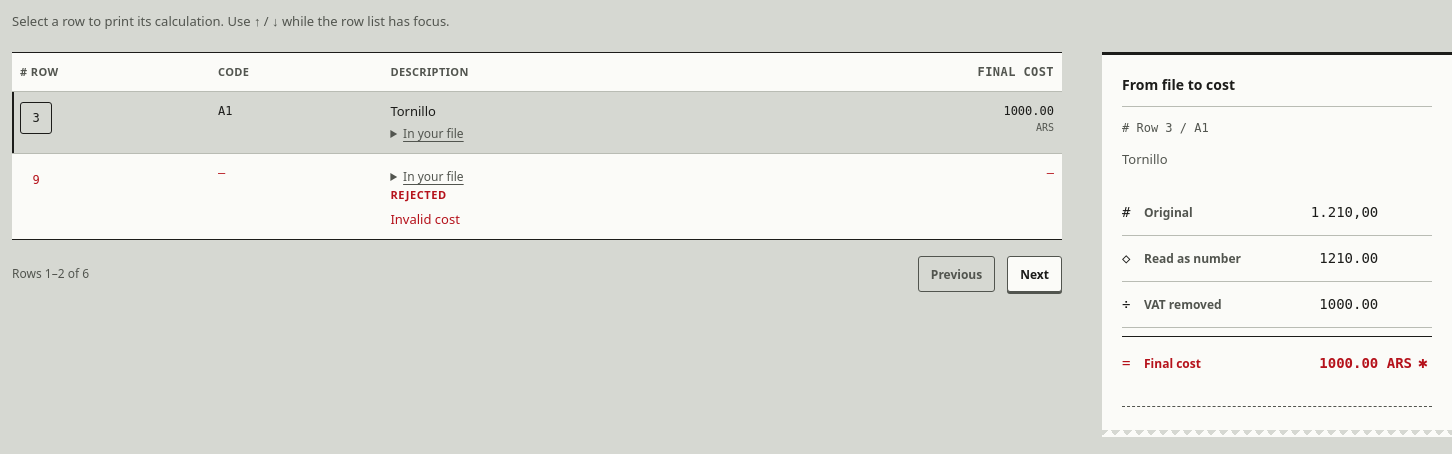
it: printed preview tape › shows rejection reasons on selection instead of manufacturing a calculation
Click the button named "Row 9". click: (36, 180)
box: x1=20 y1=164 x2=52 y2=196
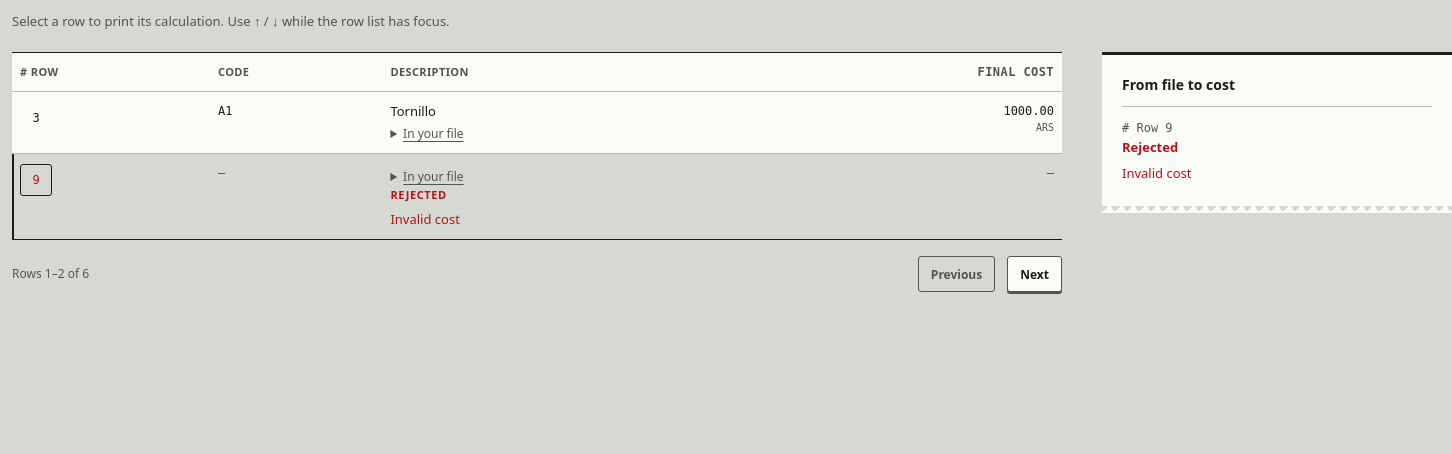
Check: the text "Invalid cost" below "Row 9" is shown, box x1=1122 y1=164 x2=1192 y2=182
